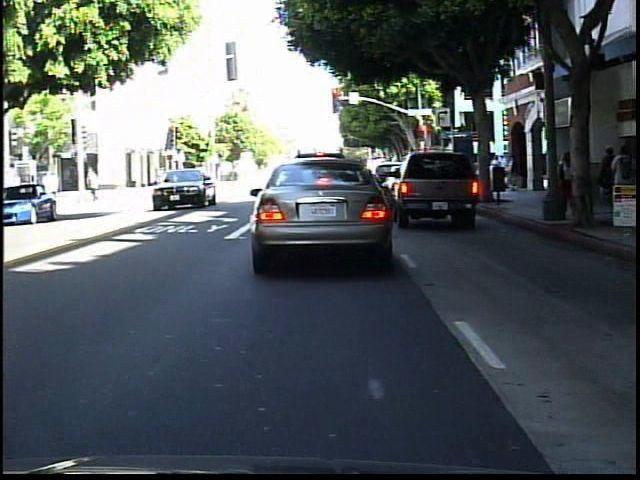person: (609, 141, 636, 218), (554, 144, 580, 220), (597, 146, 618, 212), (85, 162, 106, 206)
